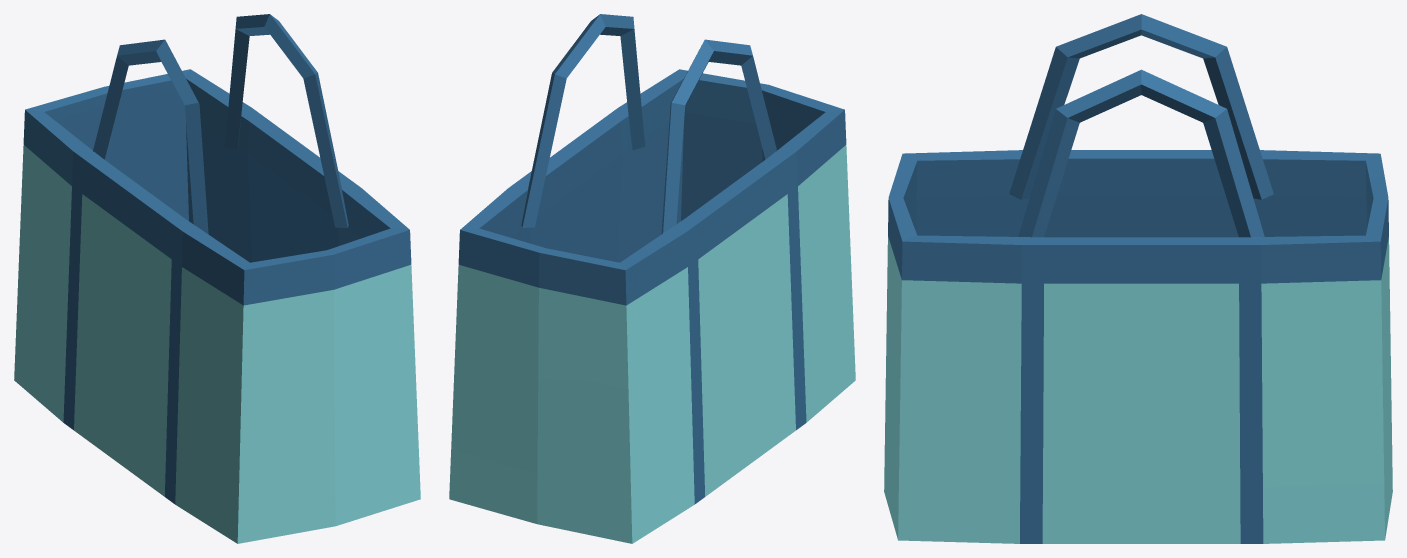
File: beach-bag.glb
3 views of the same model, side by side, from view 1: azimuth 30°, elevation 25°; view 2: azimuth 150°, elevation 25°; view 3: azimuth 270°, elevation 25° (orthographic). The views are drawn at different scales.
Parts seen in each view (by area): view 1: beach-bag; view 2: beach-bag; view 3: beach-bag.
Boxes of the visible parts, bbox=[...] form: beach-bag: bbox=[14, 14, 420, 543]; beach-bag: bbox=[449, 14, 855, 543]; beach-bag: bbox=[884, 14, 1392, 543].
Bounding box in the file's own units: 0.3042 × 0.6118 × 0.6268.
Materials: 1 (1 with a texture image).
